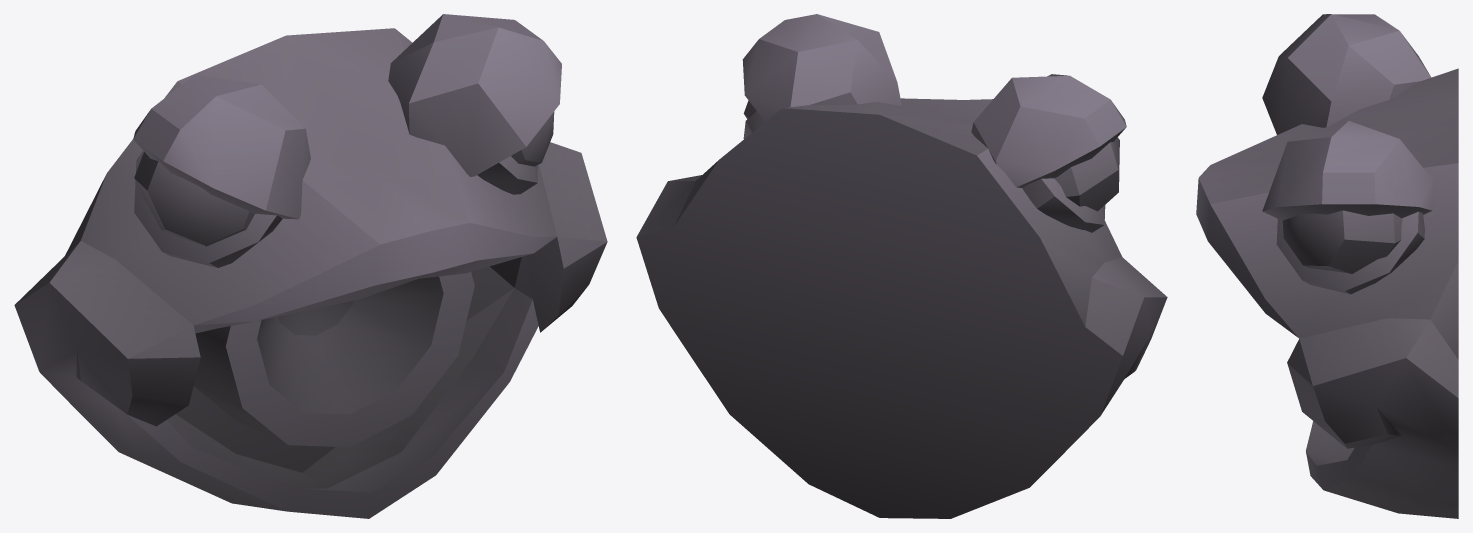
The model's file is wall_decor_2.glb.
3 views of the same model, side by side, from view 1: azimuth 30°, elevation 25°; view 2: azimuth 150°, elevation 25°; view 3: azimuth 270°, elevation 25° (orthographic). The views are drawn at different scales.
Parts seen in each view (by area): view 1: wall_decor_2; view 2: wall_decor_2; view 3: wall_decor_2.
Boxes of the visible parts, box(x1,y1,x2,y2) form: wall_decor_2: box(14, 14, 607, 518); wall_decor_2: box(636, 14, 1167, 518); wall_decor_2: box(1196, 14, 1458, 518).
Size of the model in its own units: 0.8932 by 0.7479 by 0.4186.
Materials: 1 (1 with a texture image).
